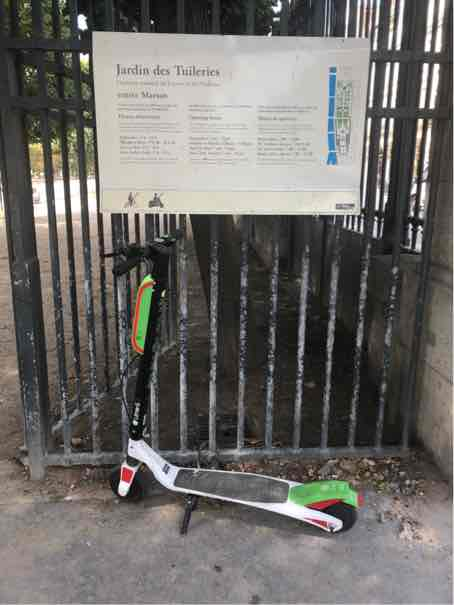scooter: (101, 225, 359, 536)
